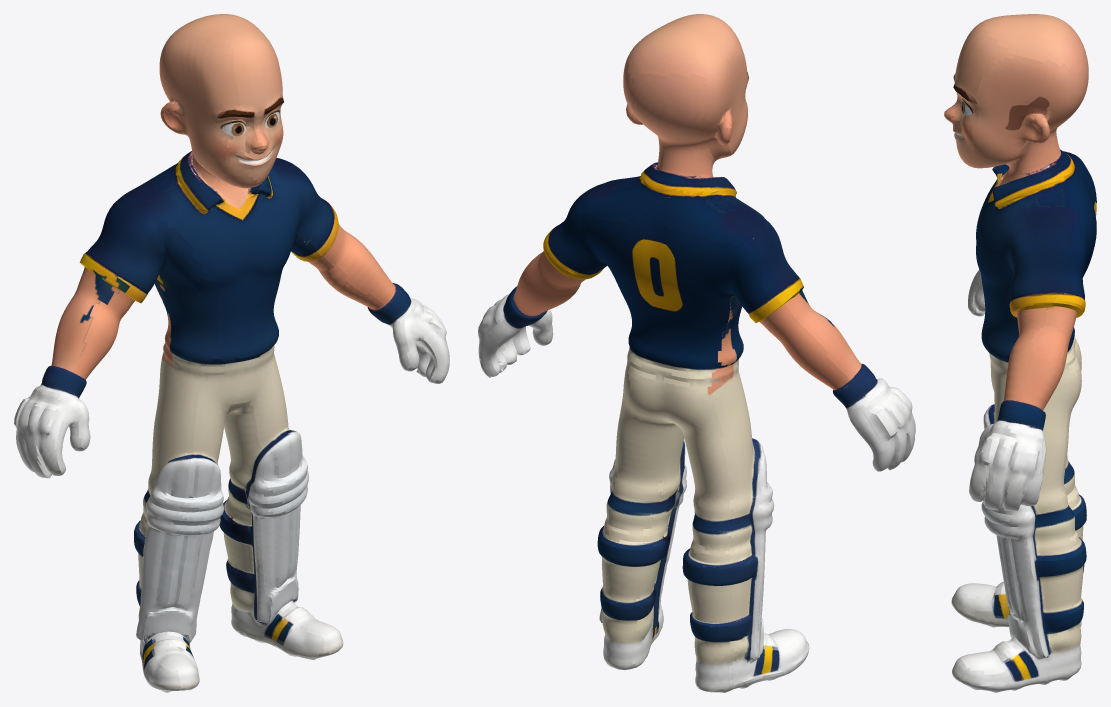
Rendered from meshy2.glb.
3 renders of one model, left to right at view 1: azimuth 30°, elevation 25°; view 2: azimuth 150°, elevation 25°; view 3: azimuth 270°, elevation 25°, orthographic.
Size of the model in its own units: 1.31 by 1.89 by 0.4139.
1 material, 1 textured.
